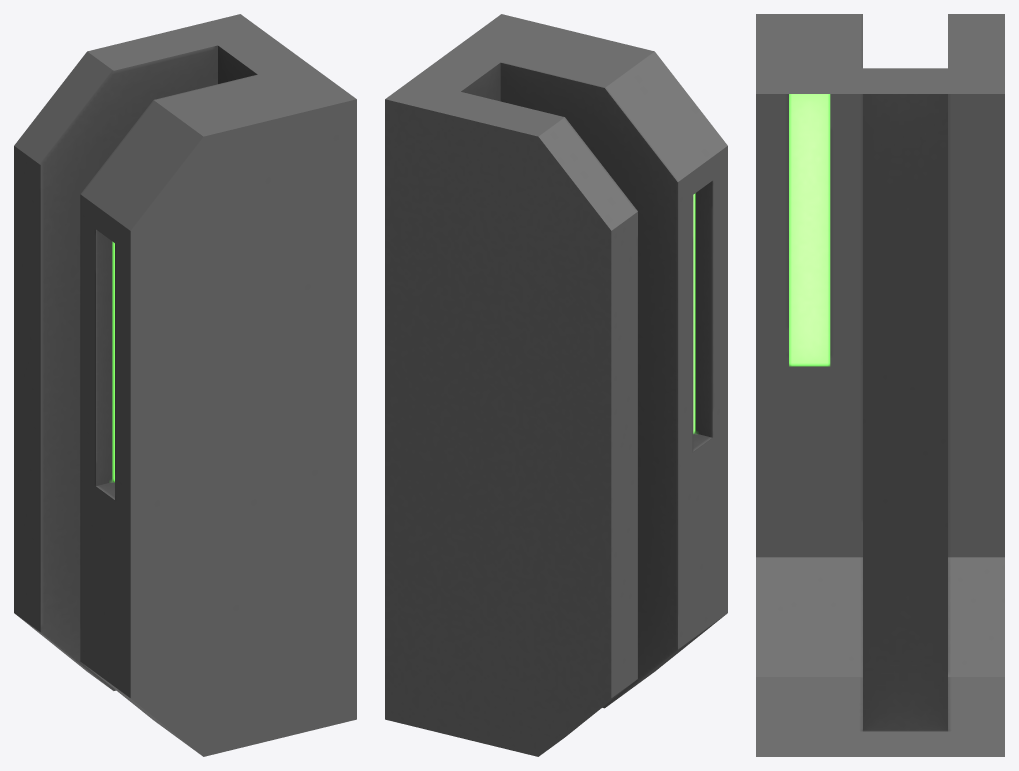
The model's file is Prop_Cardreader.fbx.
3 views of the same model, side by side, from view 1: azimuth 30°, elevation 25°; view 2: azimuth 150°, elevation 25°; view 3: azimuth 270°, elevation 25° (orthographic). The views are drawn at different scales.
Parts seen in each view (by area): view 1: Prop_Cardreader; view 2: Prop_Cardreader; view 3: Prop_Cardreader.
Part boxes in pixels (bbox=[...]): Prop_Cardreader: bbox=[14, 14, 356, 756]; Prop_Cardreader: bbox=[385, 14, 727, 756]; Prop_Cardreader: bbox=[756, 14, 1004, 756].
Bounding box in the file's own units: 0.247 × 0.6468 × 0.2201.
Materials: 1 (1 with a texture image).
